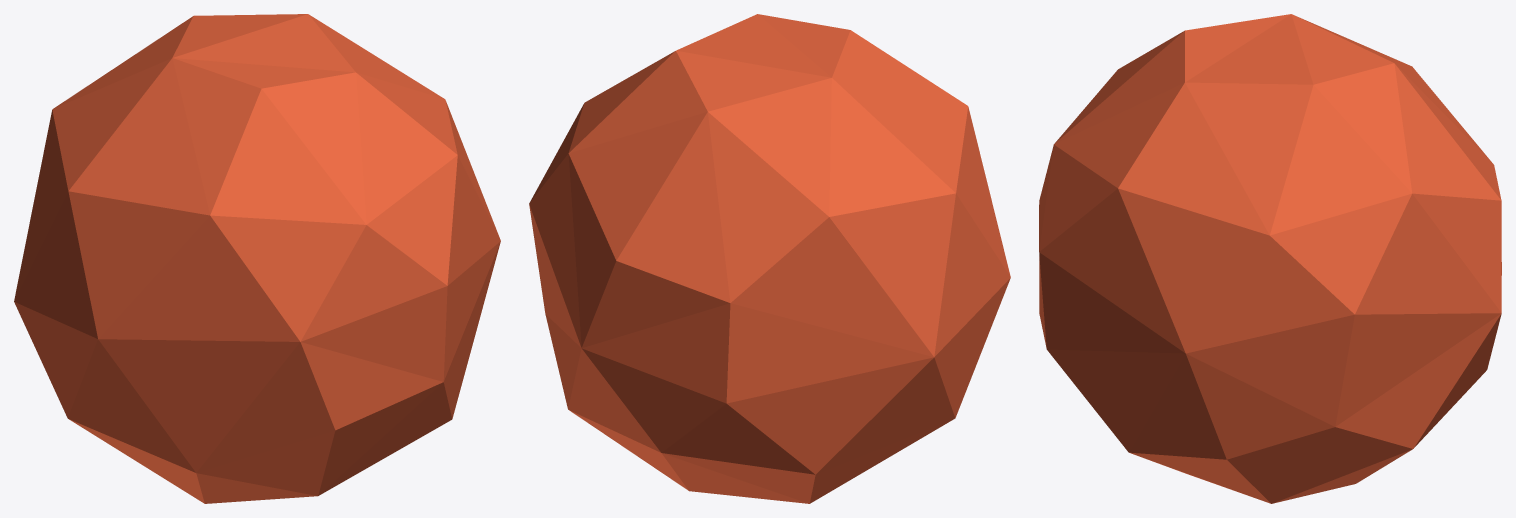
File: shrub-round_dark.fbx
The picture shows the model from 3 angles, left to right: view 1: azimuth 30°, elevation 25°; view 2: azimuth 150°, elevation 25°; view 3: azimuth 270°, elevation 25°; orthographic projection.
Visible parts, largest first — view 1: shrub-round_dark; view 2: shrub-round_dark; view 3: shrub-round_dark.
Boxes of the visible parts, x1,y1,x2,y2 form: shrub-round_dark: [14, 14, 500, 503]; shrub-round_dark: [529, 14, 1010, 503]; shrub-round_dark: [1039, 14, 1501, 503].
Size of the model in its own units: 1.46 by 1.46 by 1.47.
